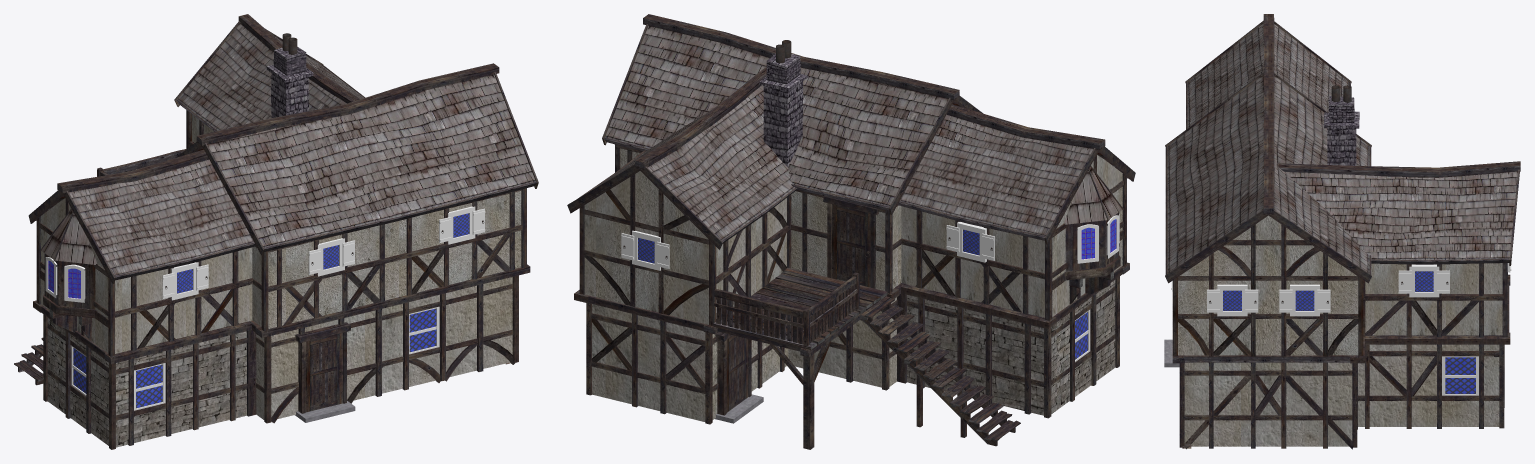
The model's file is house2.glb.
3 renders of one model, left to right at view 1: azimuth 30°, elevation 25°; view 2: azimuth 150°, elevation 25°; view 3: azimuth 270°, elevation 25°, orthographic. The views are drawn at different scales.
Visible parts, largest first — view 1: house2; view 2: house2; view 3: house2.
Boxes of the visible parts, box(x1,y1,x2,y2) form: house2: box(14, 14, 538, 449); house2: box(567, 14, 1135, 449); house2: box(1164, 14, 1520, 449).
Size of the model in its own units: 13.53 by 8.87 by 9.54.
Materials: 12 (11 with a texture image).
